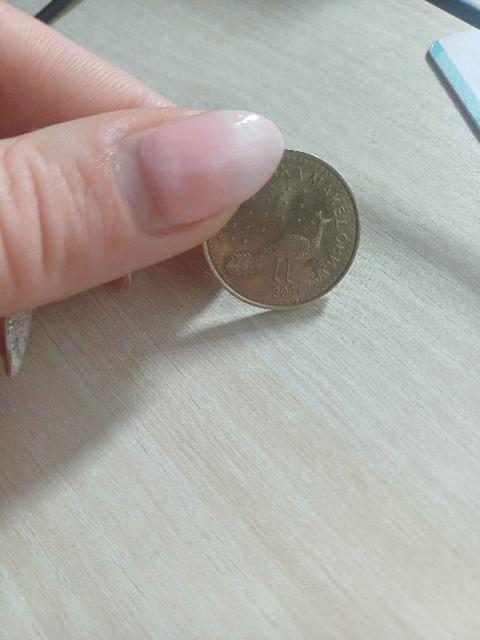10_coin: (204, 150, 359, 309)
